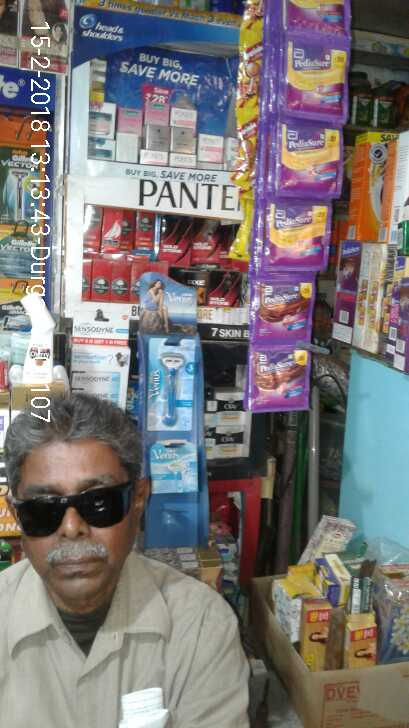venus: (147, 337, 194, 432), (149, 437, 192, 497)
